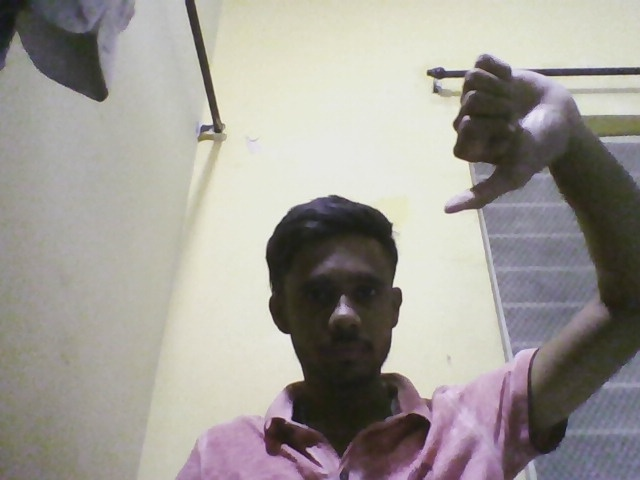no: (403, 49, 586, 230)
